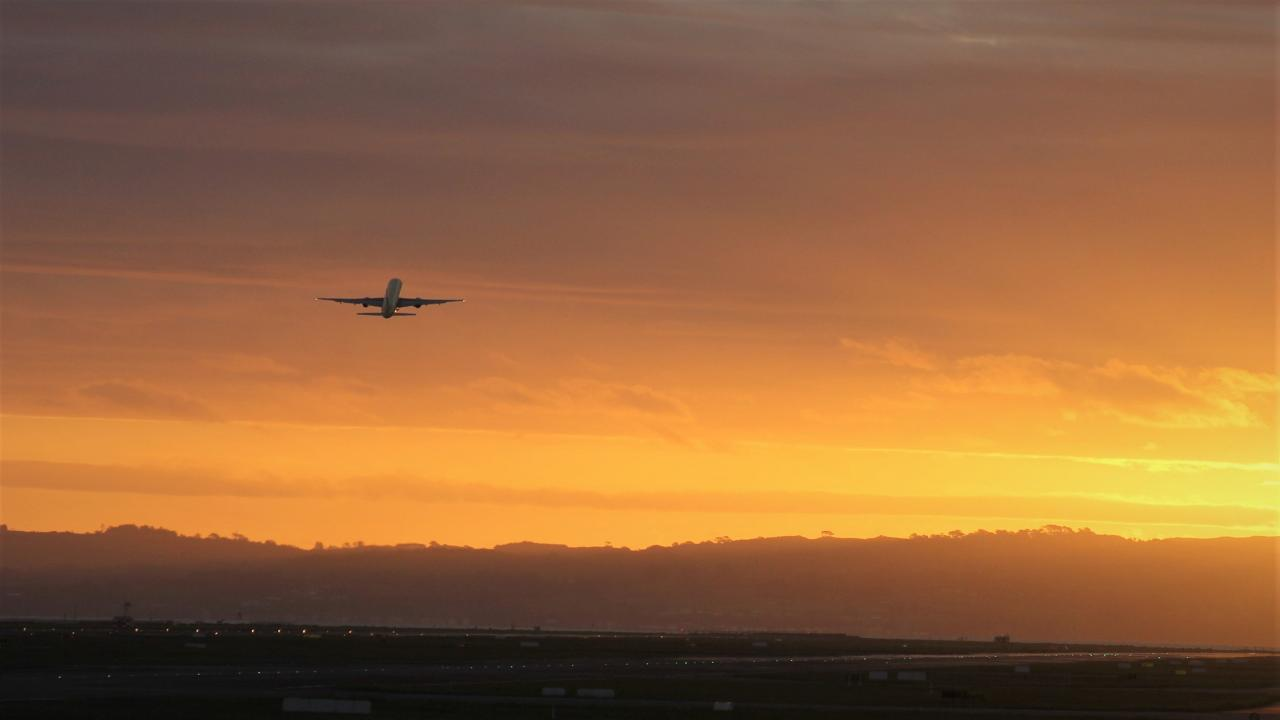Airplane: (303, 272, 472, 328)
